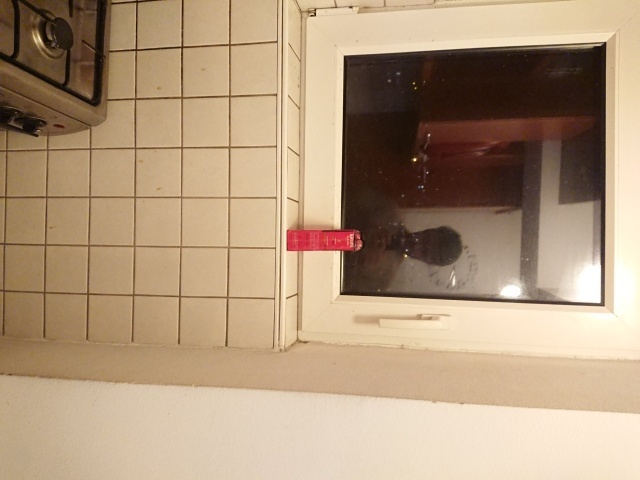Barcaffe Classic Original 225g: (284, 226, 364, 254)
